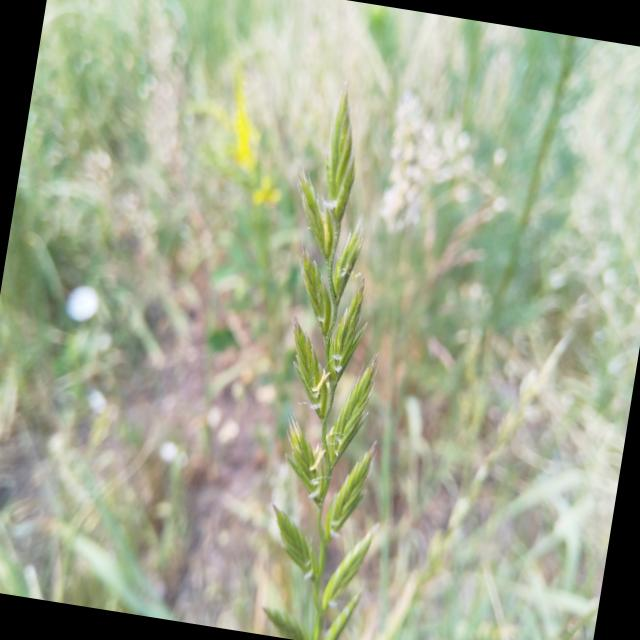Lolium: (223, 73, 449, 640)
